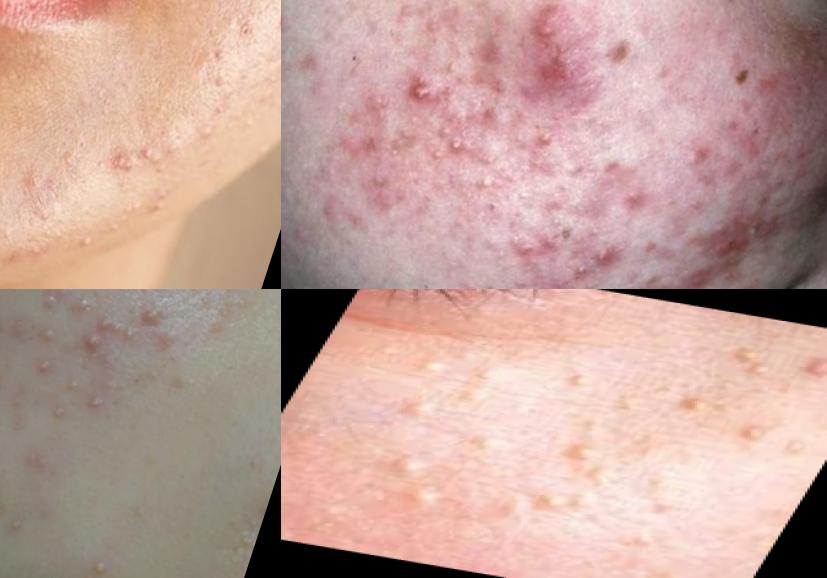milium: (483, 476, 644, 539), (696, 331, 827, 395), (530, 432, 645, 493), (401, 356, 513, 409), (372, 448, 465, 505), (719, 409, 793, 451), (389, 387, 457, 428), (663, 389, 729, 421), (553, 364, 607, 392)
papular: (666, 132, 720, 192), (532, 47, 588, 102), (341, 121, 396, 174), (602, 177, 653, 232), (524, 3, 570, 49), (496, 223, 541, 270), (528, 227, 571, 266), (586, 234, 623, 271)
purulent: (72, 307, 128, 365), (396, 66, 449, 121), (64, 550, 133, 578), (134, 292, 175, 337), (49, 362, 84, 395), (37, 290, 74, 321), (1, 507, 32, 543), (82, 389, 111, 422), (26, 325, 56, 349), (34, 354, 55, 380)
whitehead: (185, 105, 242, 169), (118, 133, 174, 192), (60, 220, 111, 267), (519, 115, 569, 157), (560, 255, 600, 290), (434, 50, 467, 88), (471, 172, 499, 203), (446, 136, 474, 167), (48, 397, 74, 426)
